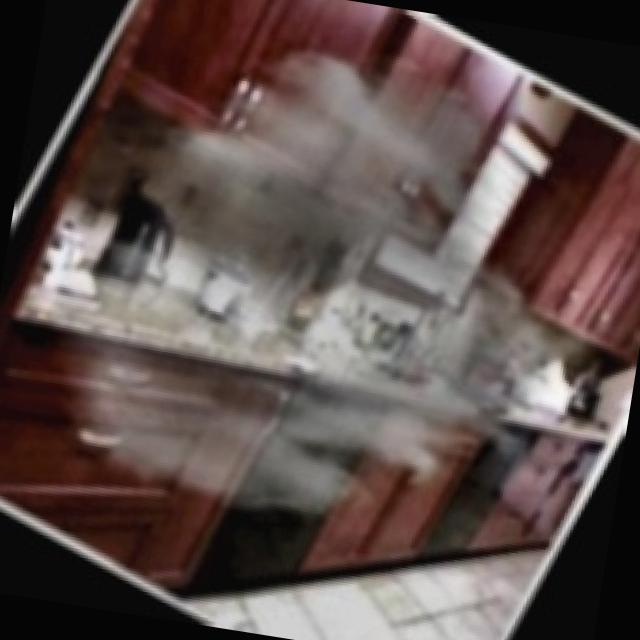smoke: (82, 62, 572, 540)
